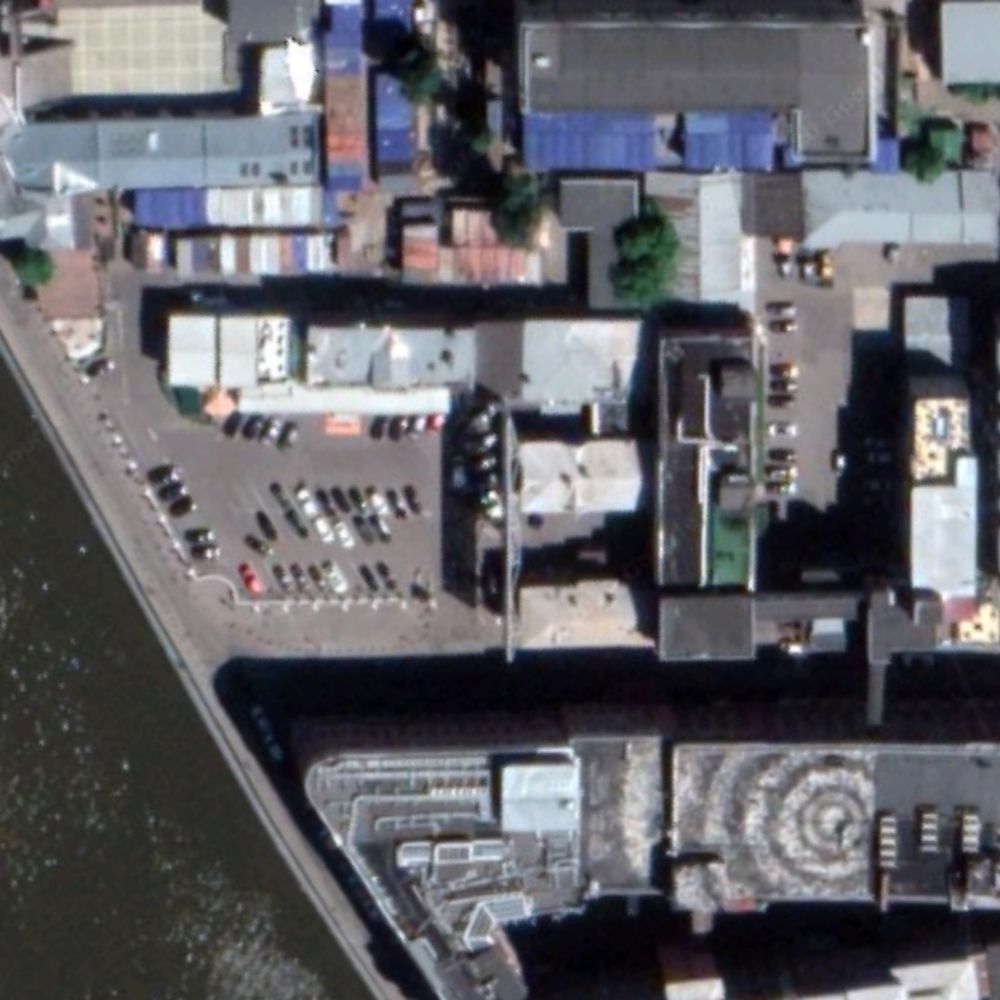parking: (105, 415, 475, 600), (755, 245, 890, 565)
